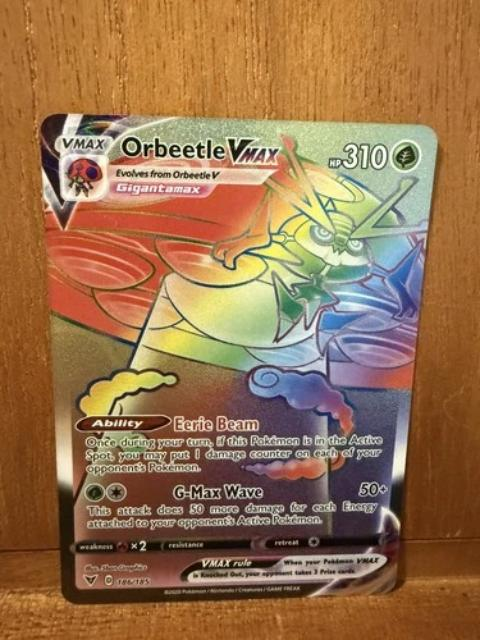Card: (36, 110, 443, 608)
Name: (116, 132, 286, 169)
